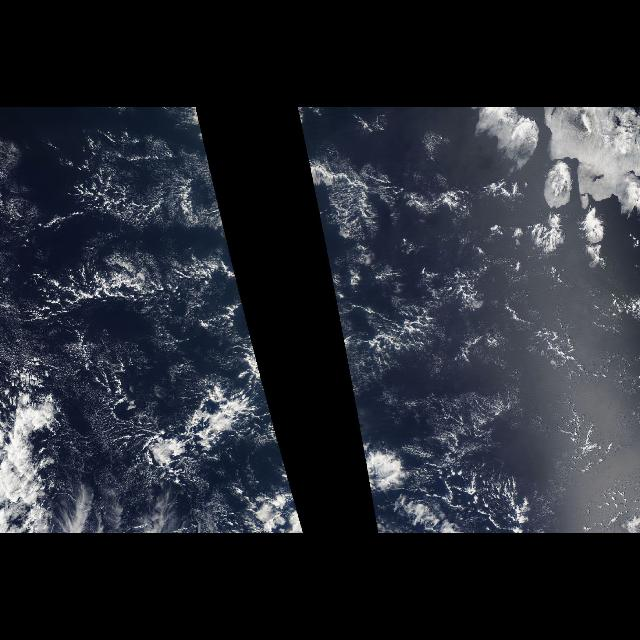Gravel: (39, 135, 207, 259)
Sugar: (128, 308, 222, 390)
